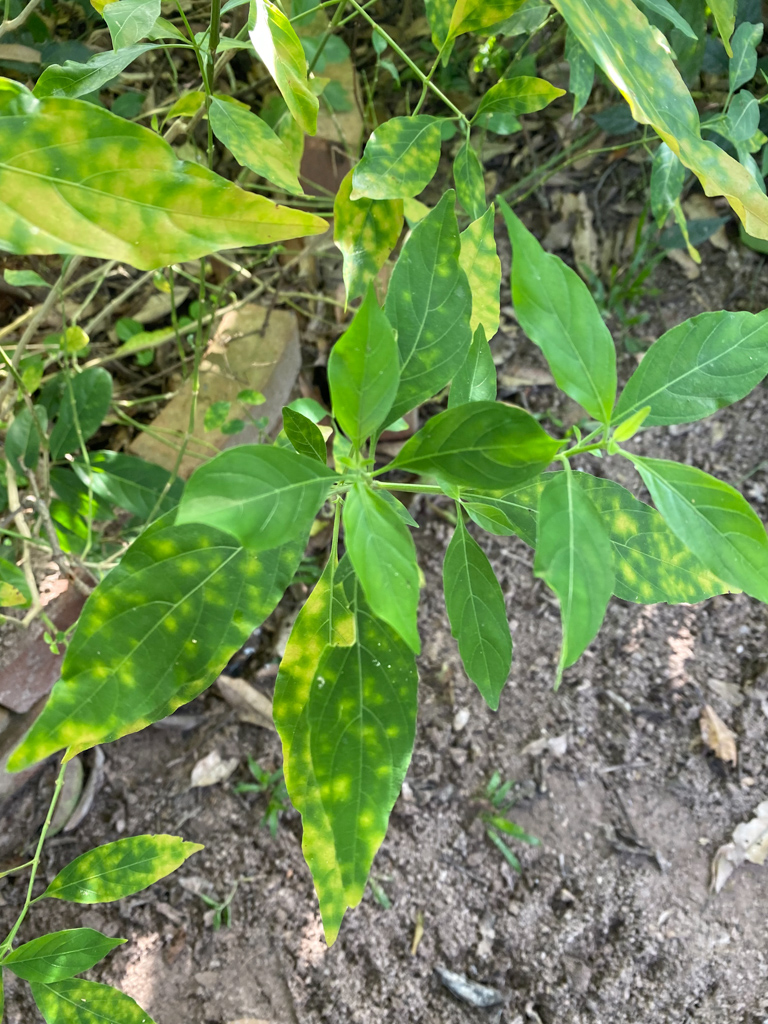Pepper yellow leaf: (8, 508, 289, 779), (5, 98, 327, 285), (272, 568, 427, 939), (591, 467, 746, 623), (325, 112, 443, 299)
